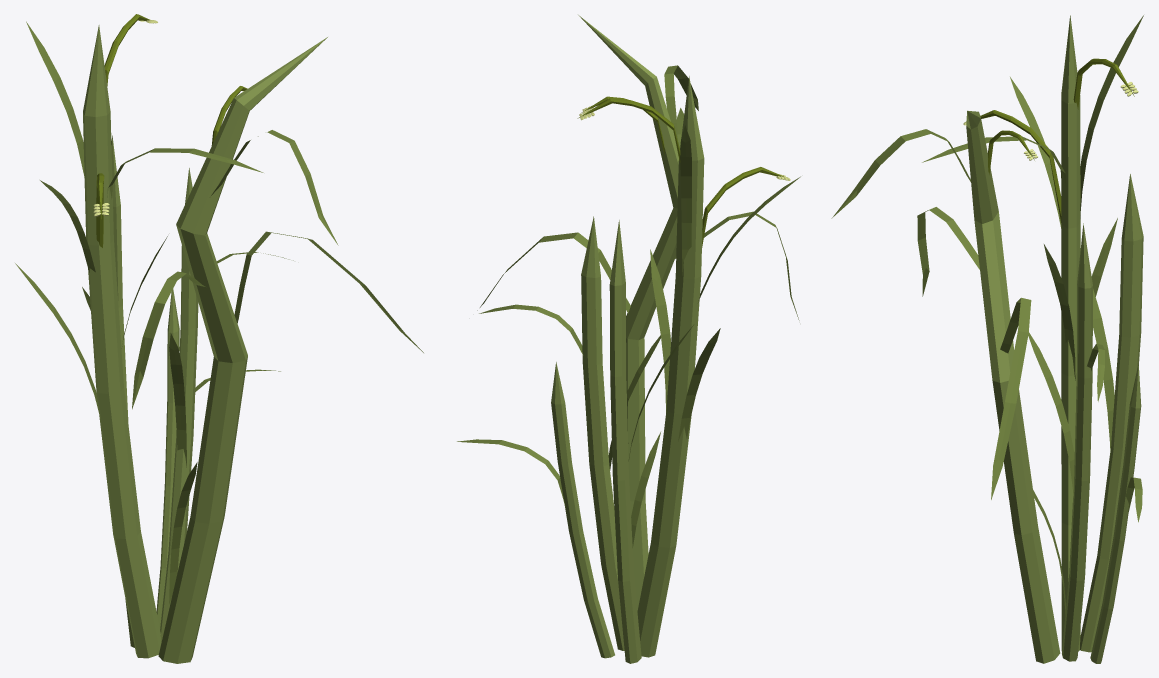
File: Rice Roung.glb
3 renders of one model, left to right at view 1: azimuth 30°, elevation 25°; view 2: azimuth 150°, elevation 25°; view 3: azimuth 270°, elevation 25°, orthographic. The views are drawn at different scales.
Parts seen in each view (by area): view 1: Plane.024; view 2: Plane.024; view 3: Plane.024.
Part boxes in pixels (x1,y1,x2,y2): Plane.024: [15, 14, 423, 663]; Plane.024: [457, 15, 800, 663]; Plane.024: [831, 15, 1143, 663].
Size of the model in its own units: 0.4096 by 0.6658 by 0.3081.
